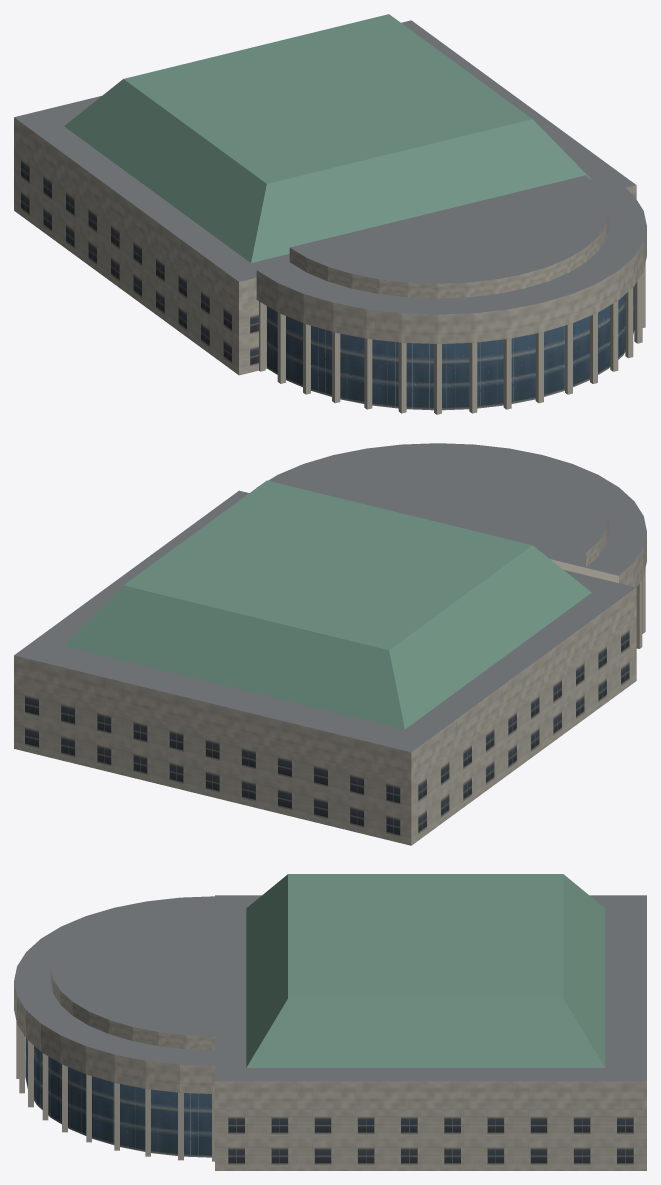
Rendered from davies_symphony_hall.glb.
3 views of the same model, one above another, from view 1: azimuth 30°, elevation 25°; view 2: azimuth 150°, elevation 25°; view 3: azimuth 270°, elevation 25° (orthographic). The views are drawn at different scales.
Parts seen in each view (by area): view 1: davies_symphony_hall; view 2: davies_symphony_hall; view 3: davies_symphony_hall.
Part boxes in pixels (box(x1,y1,x2,y2)): davies_symphony_hall: box(14, 14, 646, 414); davies_symphony_hall: box(14, 443, 646, 845); davies_symphony_hall: box(14, 874, 646, 1170).
Bounding box in the file's own units: 84.51 × 29.99 × 122.
Materials: 2 (2 with a texture image).
